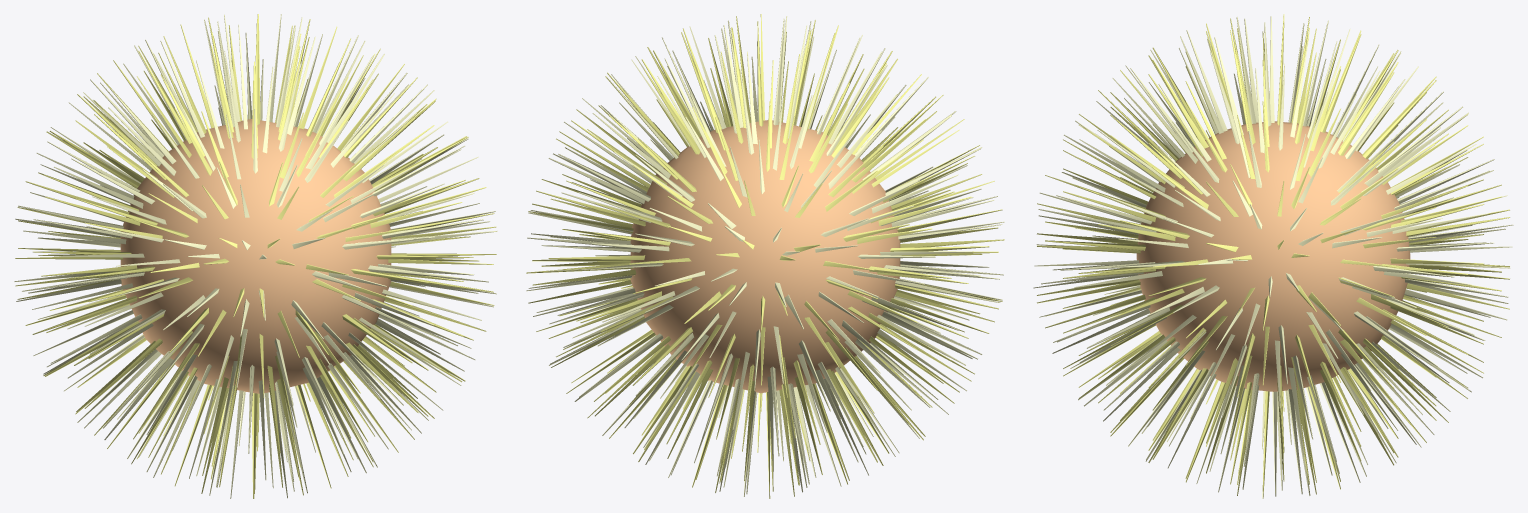
The model's file is urchin.obj.
3 views of the same model, side by side, from view 1: azimuth 30°, elevation 25°; view 2: azimuth 150°, elevation 25°; view 3: azimuth 270°, elevation 25° (orthographic).
Visible parts, largest first — view 1: Vertex_Object_1, Vertex_Sphere, Vertex_Object; view 2: Vertex_Object, Vertex_Sphere, Vertex_Object_1; view 3: Vertex_Sphere, Vertex_Object_1, Vertex_Object.
Part boxes in pixels (box(x1,y1,x2,y2)): Vertex_Object_1: box(14, 14, 497, 498); Vertex_Sphere: box(120, 119, 391, 393); Vertex_Object: box(15, 14, 496, 498); Vertex_Object: box(526, 14, 1004, 498); Vertex_Sphere: box(630, 120, 900, 393); Vertex_Object_1: box(526, 16, 1004, 496); Vertex_Sphere: box(1136, 121, 1410, 391); Vertex_Object_1: box(1033, 16, 1513, 496); Vertex_Object: box(1037, 14, 1509, 498).
Bounding box in the file's own units: 42.99 × 42.91 × 42.91.
